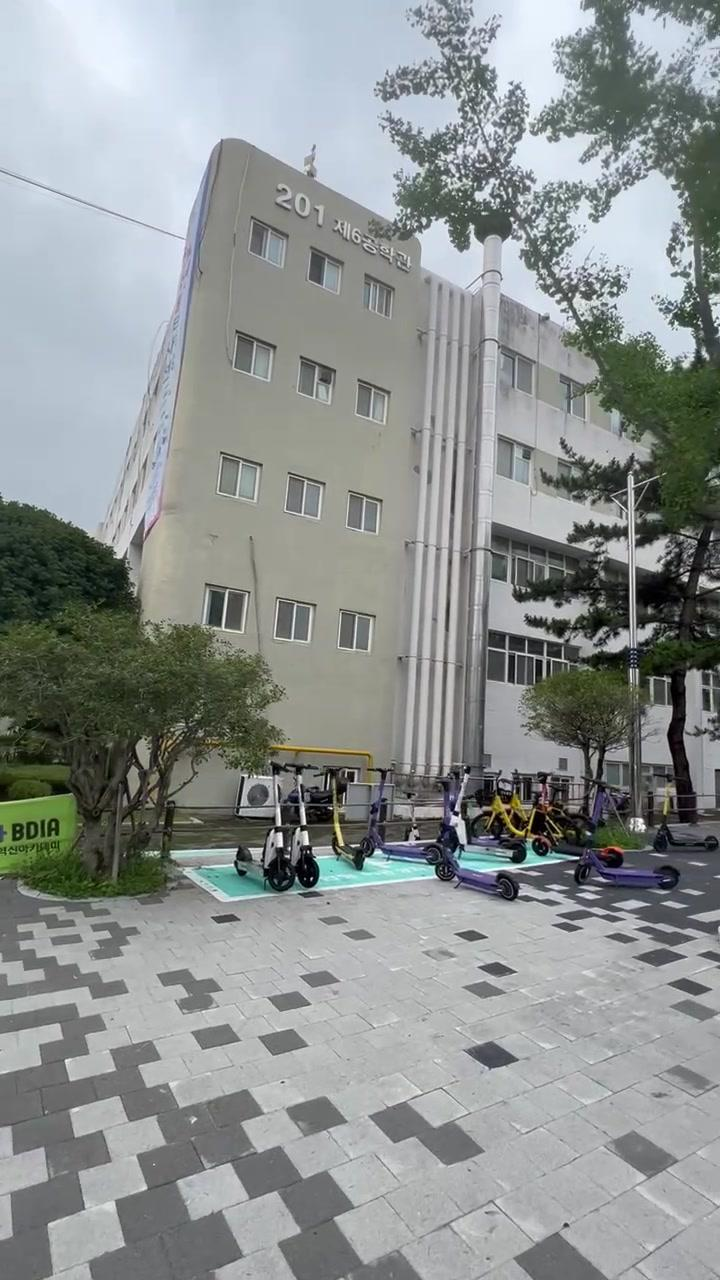building: (134, 130, 516, 690)
